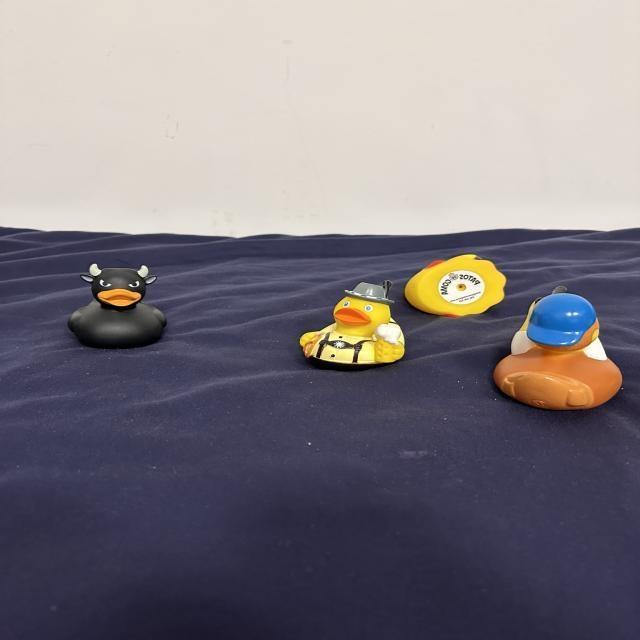rubber-duck: (493, 291, 620, 408), (298, 280, 403, 363), (67, 262, 164, 346), (403, 253, 504, 315)
